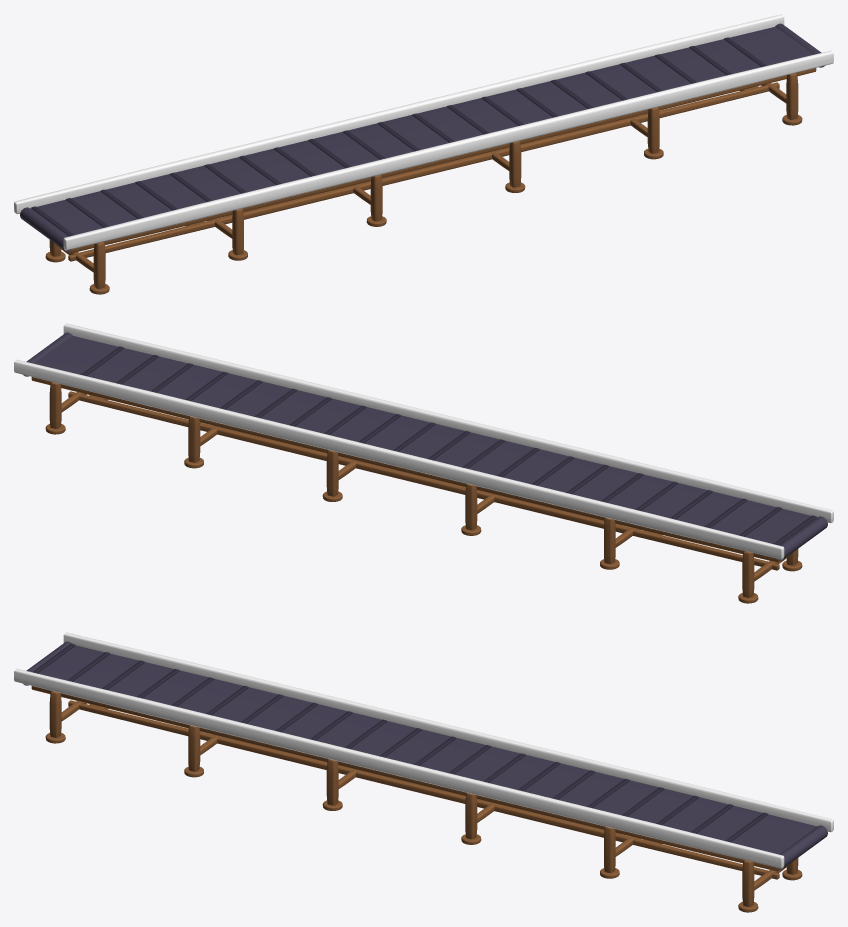
Rendered from CakeBelt.obj.
3 views of the same model, one above another, from view 1: azimuth 30°, elevation 25°; view 2: azimuth 150°, elevation 25°; view 3: azimuth 330°, elevation 25° (orthographic).
Parts seen in each view (by area): view 1: Belt, Stripe, Frame, Cleats; view 2: Belt, Stripe, Frame, Cleats; view 3: Belt, Stripe, Frame, Cleats.
Boxes of the visible parts, x1,y1,x2,y2 form: Belt: (20, 23, 824, 251); Stripe: (14, 14, 833, 250); Frame: (45, 68, 816, 294); Cleats: (31, 37, 766, 236); Belt: (23, 332, 827, 560); Stripe: (14, 323, 833, 559); Frame: (31, 377, 802, 603); Cleats: (81, 346, 816, 545); Belt: (23, 641, 827, 869); Stripe: (14, 632, 833, 868); Frame: (31, 686, 802, 912); Cleats: (32, 643, 767, 842).
Bounding box in the file's own units: 44.4 × 3.56 × 5.4.
